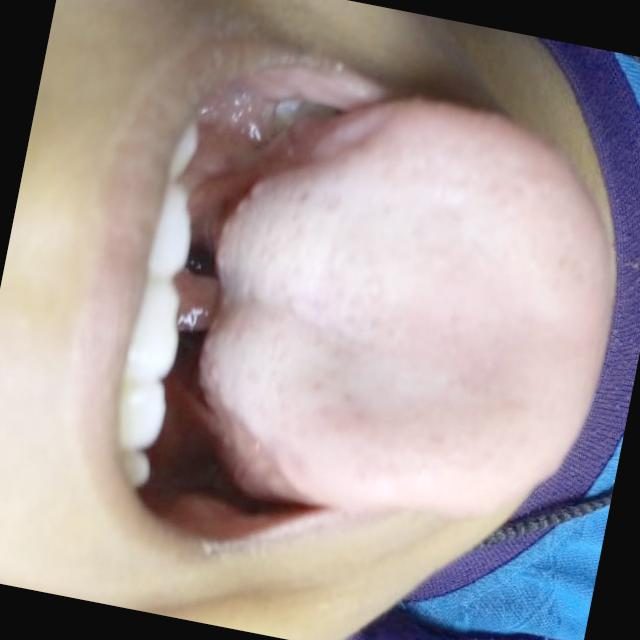No Cancer: (310, 174, 472, 418)
